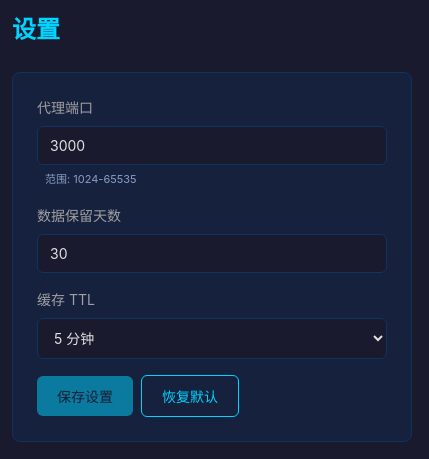
it: Settings › 修改后保存按钮启用
This screenshot has width=429, height=459.
Replace the text in the number field named "代理端口号" with "4000" at (212,146), box [37,126,387,165]
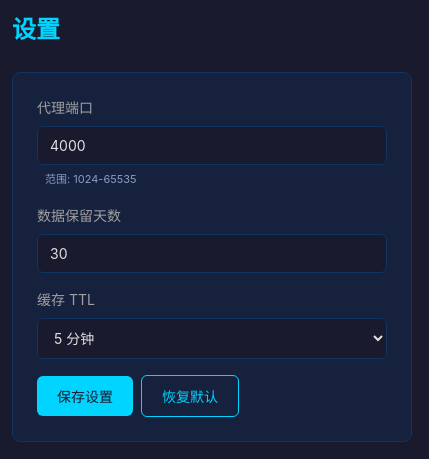
Result: the button "保存设置" is enabled at [37,376,133,416]
